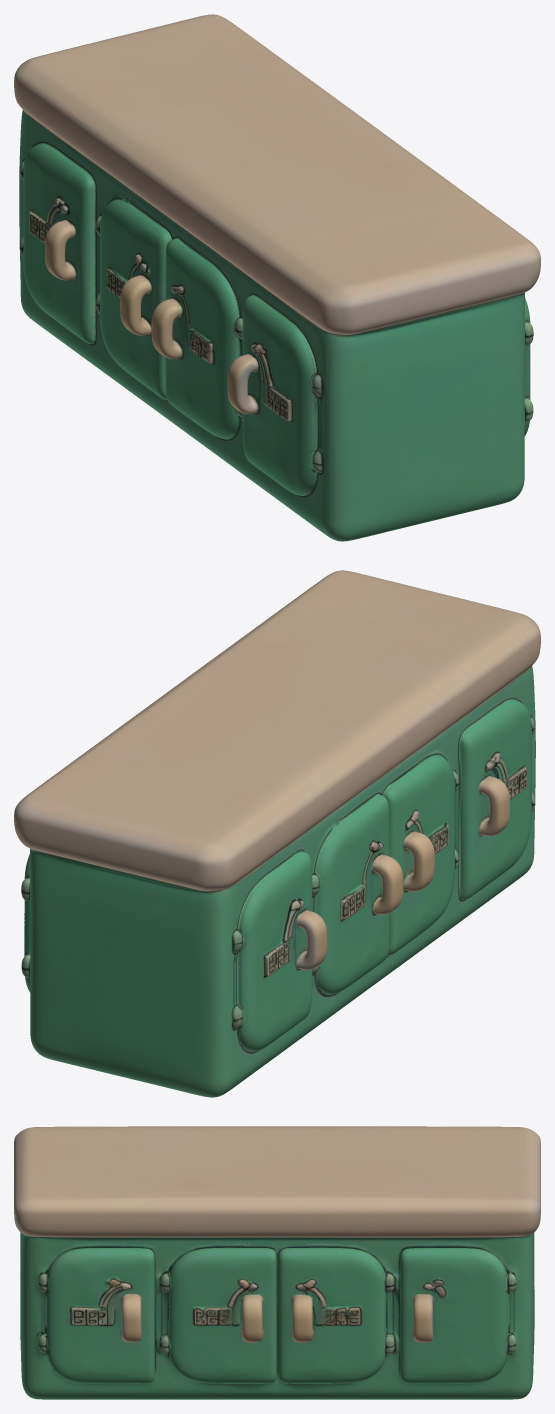
The model's file is CounterBlockLong.glb.
3 renders of one model, top to bottom at view 1: azimuth 30°, elevation 25°; view 2: azimuth 150°, elevation 25°; view 3: azimuth 270°, elevation 25°, orthographic. The views are drawn at different scales.
Visible parts, largest first — view 1: tripo_node_7f42ca76-3b19-4443-a017-3ac0ff2fc8af; view 2: tripo_node_7f42ca76-3b19-4443-a017-3ac0ff2fc8af; view 3: tripo_node_7f42ca76-3b19-4443-a017-3ac0ff2fc8af.
Boxes of the visible parts, bbox=[...] form: tripo_node_7f42ca76-3b19-4443-a017-3ac0ff2fc8af: bbox=[14, 14, 540, 541]; tripo_node_7f42ca76-3b19-4443-a017-3ac0ff2fc8af: bbox=[14, 570, 540, 1097]; tripo_node_7f42ca76-3b19-4443-a017-3ac0ff2fc8af: bbox=[14, 1126, 540, 1399].
Size of the model in its own units: 0.4874 by 0.4348 by 1.
Materials: 1 (1 with a texture image).
